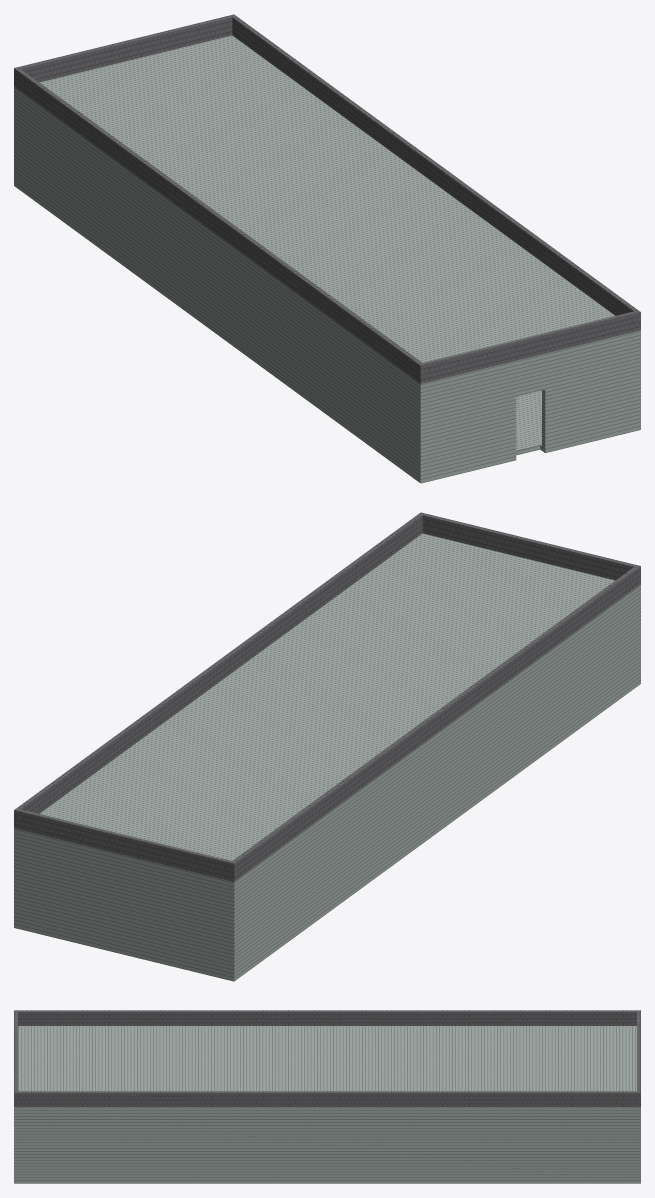
File: storefront_diner.glb
The picture shows the model from 3 angles, top to bottom: view 1: azimuth 30°, elevation 25°; view 2: azimuth 150°, elevation 25°; view 3: azimuth 270°, elevation 25°; orthographic projection. The views are drawn at different scales.
Visible parts, largest first — view 1: storefront_diner-col; view 2: storefront_diner-col; view 3: storefront_diner-col.
Part boxes in pixels (x1=…): storefront_diner-col: x1=14, y1=14, x2=640, y2=483; storefront_diner-col: x1=14, y1=512, x2=640, y2=981; storefront_diner-col: x1=14, y1=1010, x2=640, y2=1183.
Size of the model in its own units: 7.62 by 3.89 by 24.38.
Materials: 2 (2 with a texture image).
